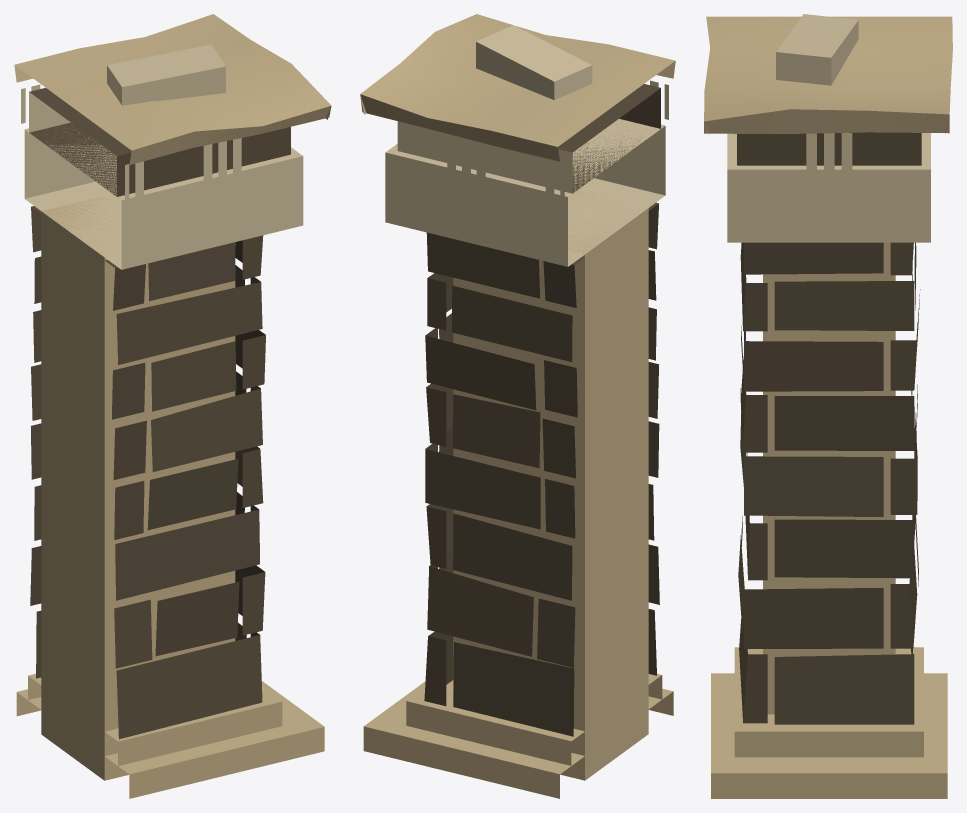
Rendered from temple-end.glb.
3 views of the same model, side by side, from view 1: azimuth 30°, elevation 25°; view 2: azimuth 150°, elevation 25°; view 3: azimuth 270°, elevation 25° (orthographic). The views are drawn at different scales.
Visible parts, largest first — view 1: temple-end; view 2: temple-end; view 3: temple-end.
Part boxes in pixels (x1,y1,x2,y2): temple-end: [14, 14, 331, 798]; temple-end: [360, 14, 675, 798]; temple-end: [704, 14, 952, 798].
Size of the model in its own units: 1.02 by 3.32 by 1.05.
